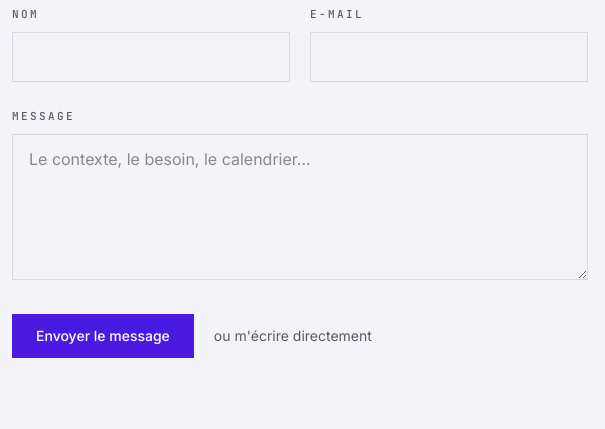
<ContactForm /> › falls back to the direct address when the form is not configured
Type "Camille Dupont" into the field labelled "Nom".
click(151, 57); type("Camille Dupont")  # box x1=12 y1=32 x2=290 y2=82
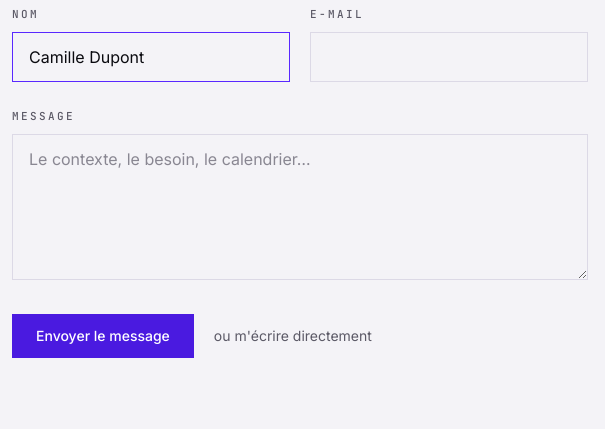
Type "camille@example.com" into the field labelled "E-mail".
click(449, 57); type("camille@example.com")  # box x1=310 y1=32 x2=588 y2=82
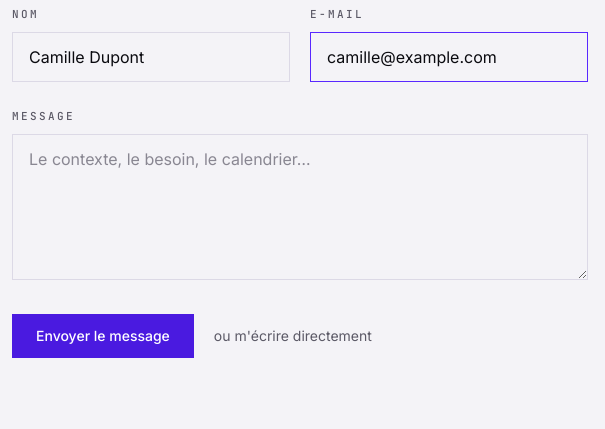
Type "Bonjour, je souhaiterais discuter dune mission de product design." into the text box labelled "Message".
click(300, 207); type("Bonjour, je souhaiterais discuter dune mission de product design.")  # box x1=12 y1=134 x2=588 y2=280
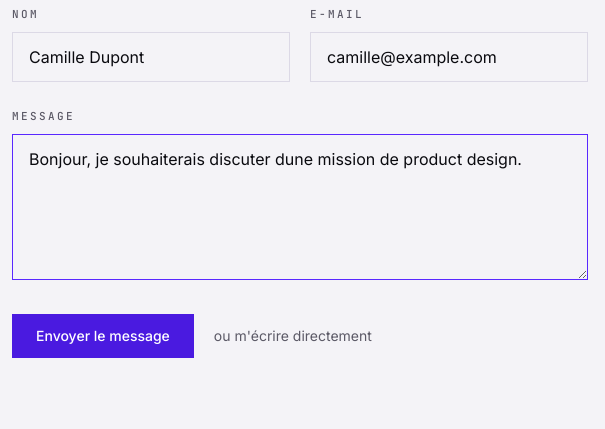
Click the button "Envoyer le message".
click(103, 336)  # box x1=12 y1=314 x2=194 y2=358
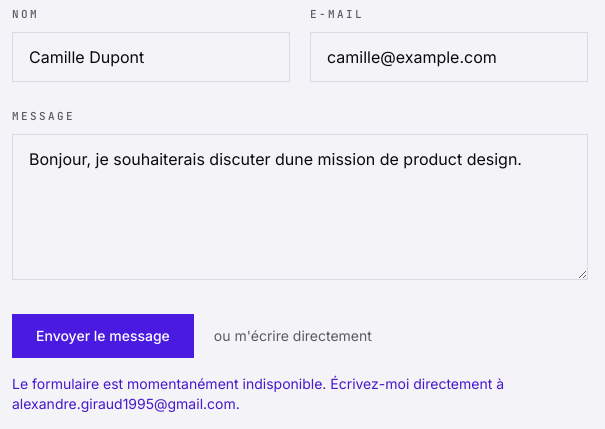
Expected: the text "momentanément indisponible" is shown, x1=12 y1=375 x2=504 y2=412
